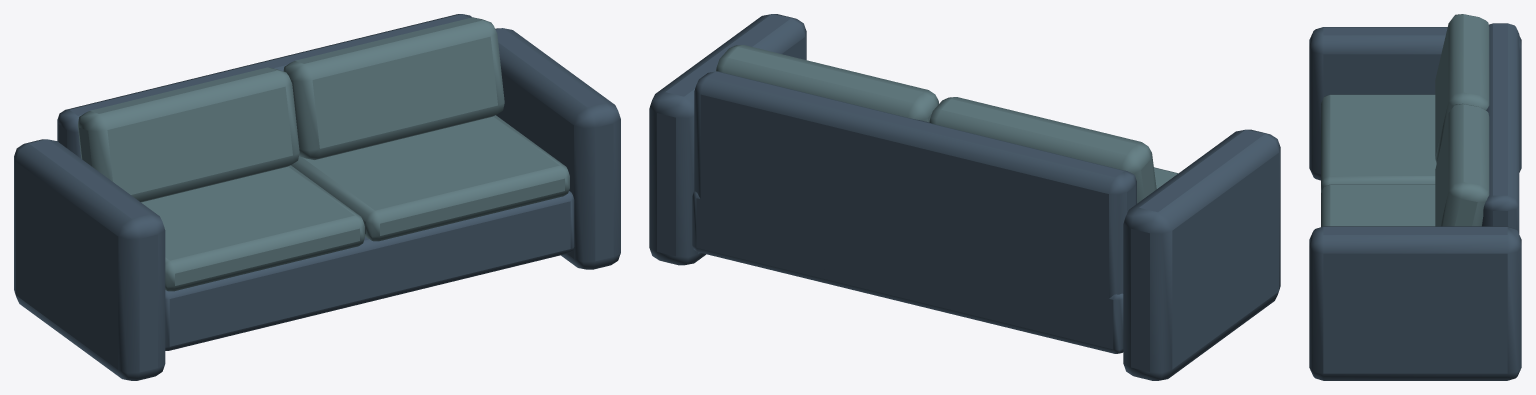
File: sofa.fbx
3 views of the same model, side by side, from view 1: azimuth 30°, elevation 25°; view 2: azimuth 150°, elevation 25°; view 3: azimuth 270°, elevation 25° (orthographic). The views are drawn at different scales.
Visible parts, largest first — view 1: sofa; view 2: sofa; view 3: sofa.
Boxes of the visible parts, x1,y1,x2,y2 form: sofa: (14,14,620,380); sofa: (649,14,1280,380); sofa: (1309,14,1521,380).
Bounding box in the file's own units: 2.2 × 0.9 × 0.8333.
